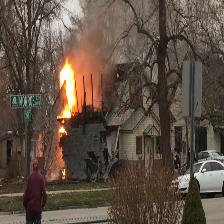fire: (60, 62, 79, 121)
smoke: (80, 13, 109, 102)
